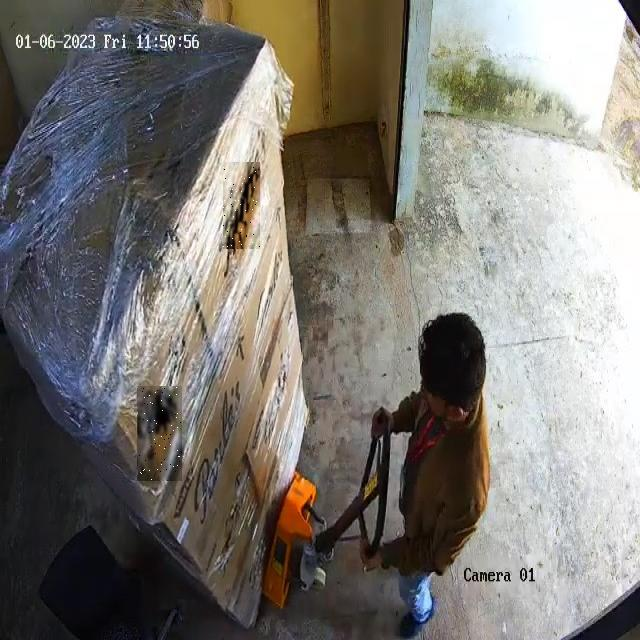leakage: (138, 387, 182, 480), (223, 163, 260, 248)
